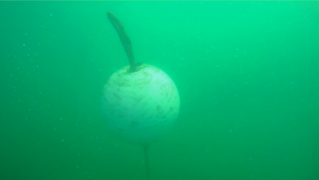buoy: (100, 63, 181, 146)
